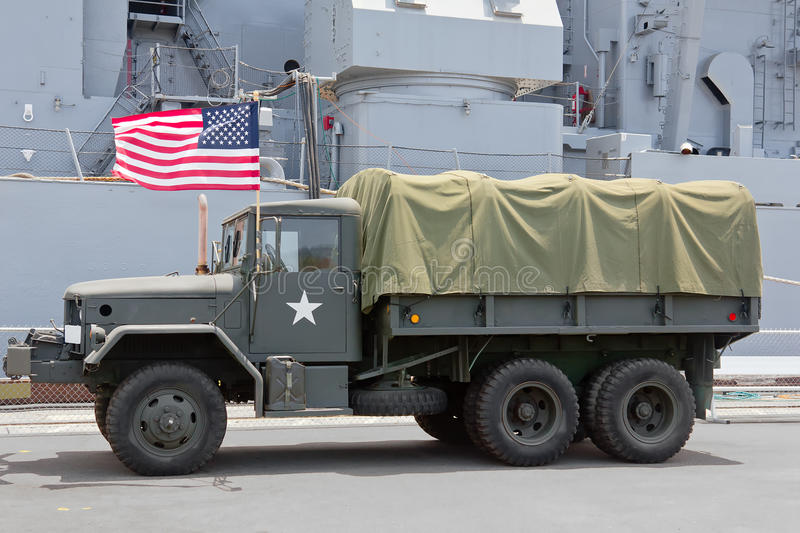camion: (40, 201, 769, 479)
